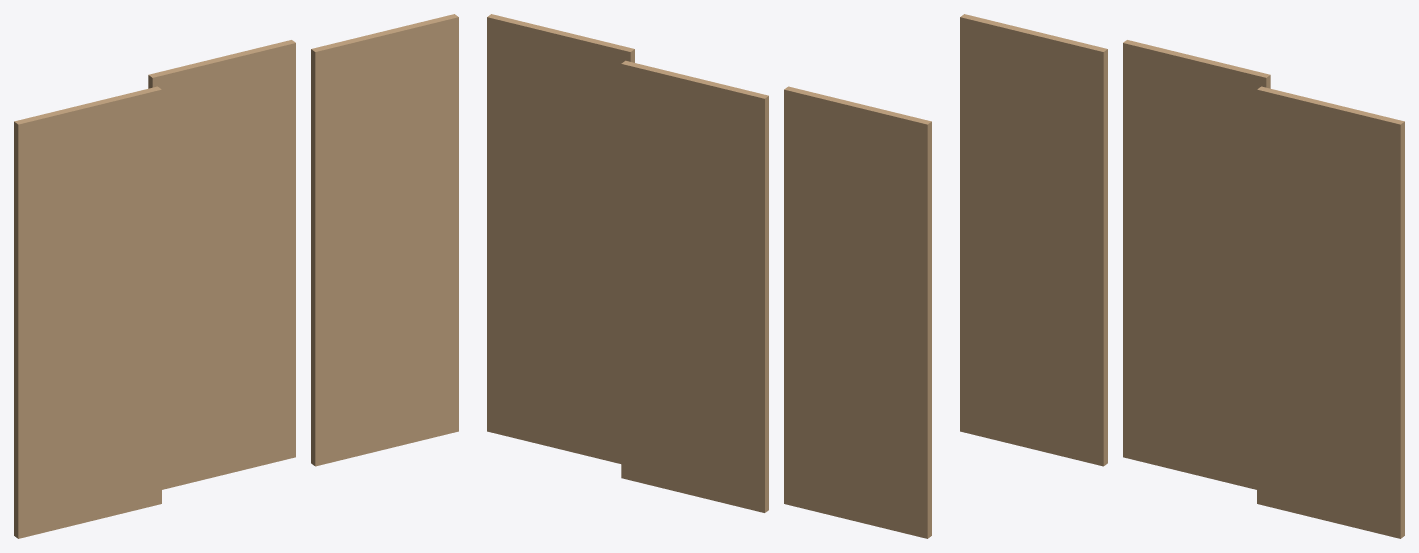
Rendered from mocan-66.glb.
3 renders of one model, left to right at view 1: azimuth 30°, elevation 25°; view 2: azimuth 150°, elevation 25°; view 3: azimuth 330°, elevation 25°, orthographic.
Parts seen in each view (by area): view 1: furniture; view 2: furniture; view 3: furniture.
Boxes of the visible parts, bbox=[...] form: furniture: bbox=[14, 14, 458, 538]; furniture: bbox=[487, 14, 931, 538]; furniture: bbox=[960, 14, 1404, 538].
Size of the model in its own units: 1.78 by 1.6 by 0.13.
